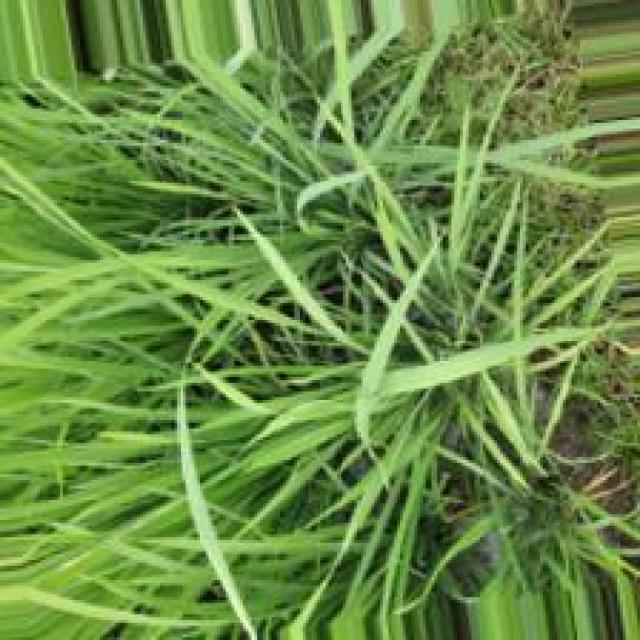HealthyLeaf: (437, 351, 493, 382)
